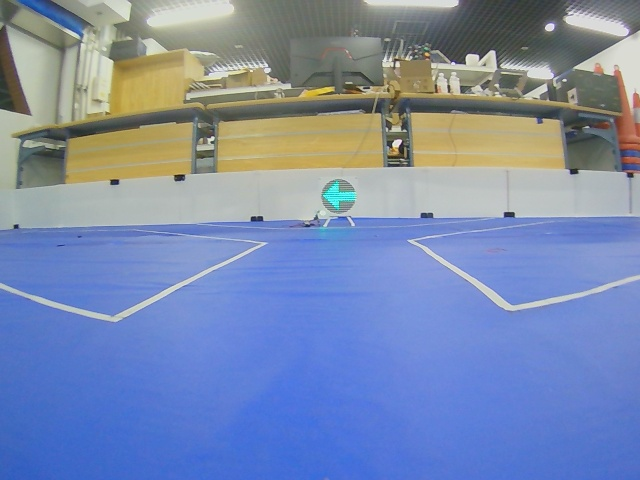left_green: (322, 179, 357, 214)
